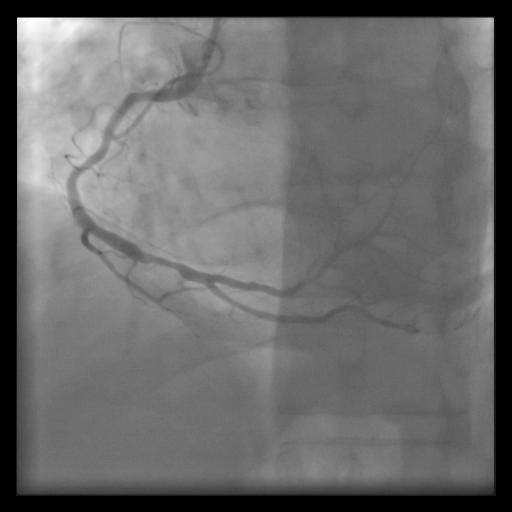Stenosis: (144, 244, 179, 278)
